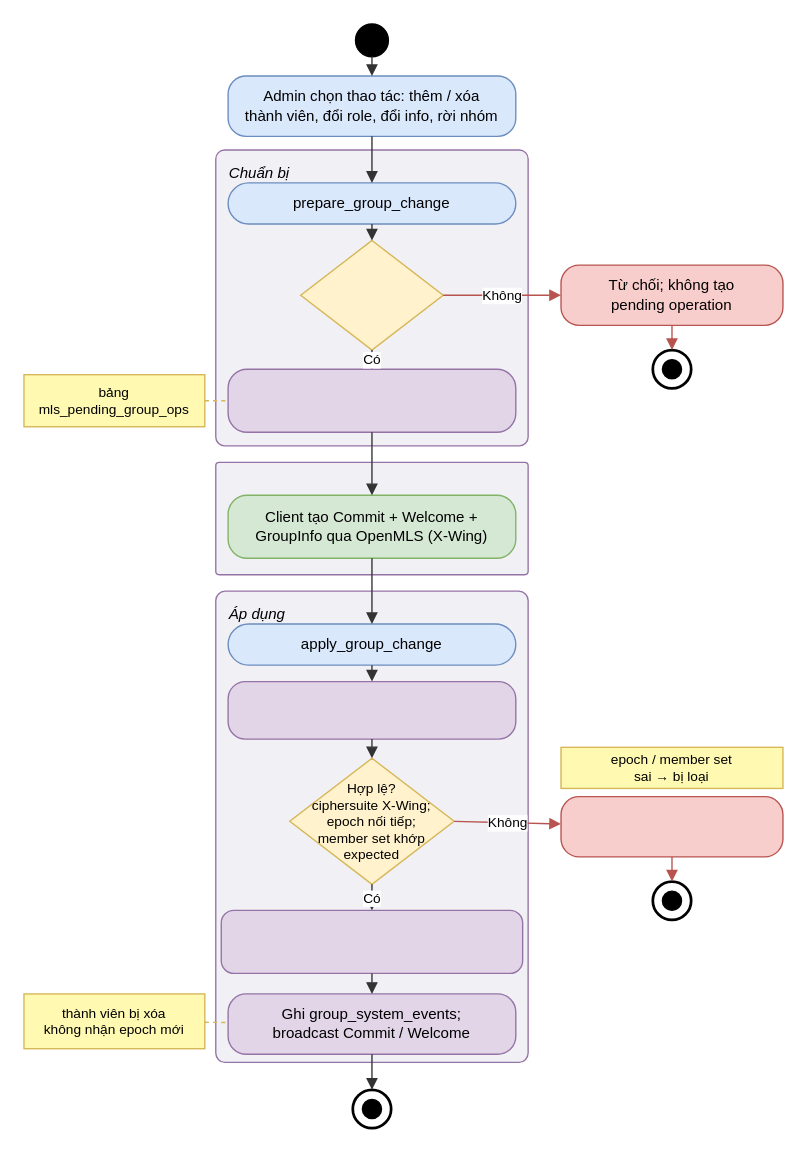
Image size: 807x1154. Some labels were removed from this diagram. The shapes that lost their labels are listed below. From the top down, each one's box as (x1, y1, x2, y2) in pixels, then its label:
(299, 239, 443, 350): Policy hợp lệ? (admin; remove không nhằm admin khác)
(227, 368, 516, 432): Server tạo operation_id; lưu pending op + expected_member_ids
(214, 461, 528, 575): Tạo handshake
(227, 680, 516, 739): Server validate PublicGroup qua mls_bridge (chỉ public state)
(560, 795, 783, 857): Handshake KHÔNG lưu; membership giữ nguyên
(220, 909, 523, 973): Mutate membership (conv_role_set); lưu mls_public_group_state (epoch, hash)
